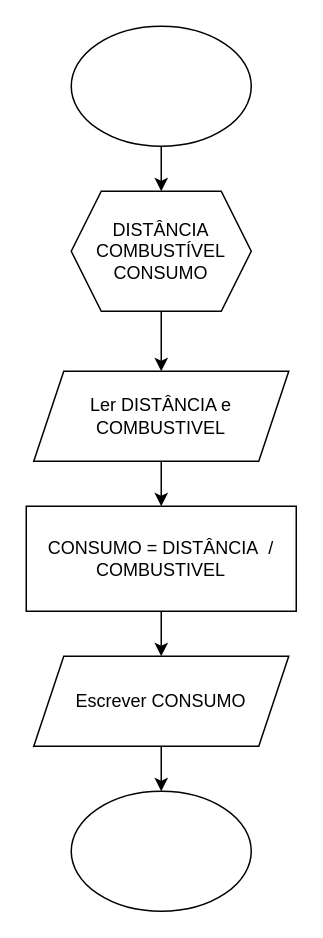
Image size: 323x938. Some labels were removed from this diagram. Each missing label, with the centre of its shape:
"FIM" goes at point (160, 850).
"INICIO" goes at point (160, 85).
